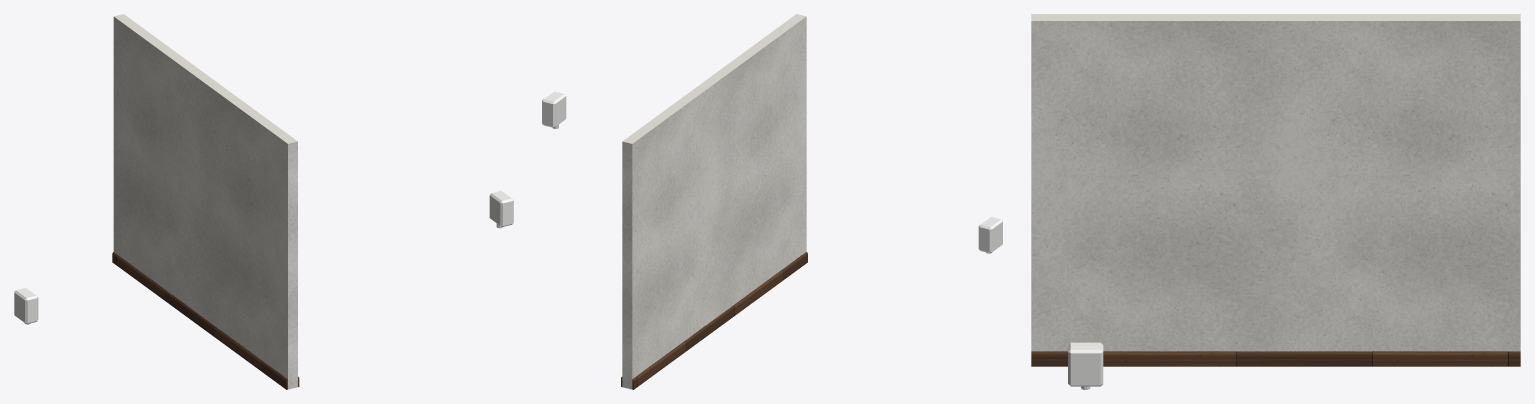
The model's file is r_plan.glb.
The picture shows the model from 3 angles, left to right: view 1: azimuth 30°, elevation 25°; view 2: azimuth 150°, elevation 25°; view 3: azimuth 270°, elevation 25°; orthographic projection. The views are drawn at different scales.
Visible parts, largest first — view 1: r_plan_plaster, r_plan_dkwood, r_plan_paint_w; view 2: r_plan_plaster, r_plan_dkwood, r_plan_paint_w; view 3: r_plan_plaster, r_plan_dkwood, r_plan_paint_w.
Boxes of the visible parts, x1,y1,x2,y2 form: r_plan_plaster: (113,14,297,389); r_plan_dkwood: (112,252,299,389); r_plan_paint_w: (14,190,513,324); r_plan_plaster: (622,14,806,389); r_plan_dkwood: (621,252,807,389); r_plan_paint_w: (542,91,1002,253); r_plan_plaster: (1031,14,1520,351); r_plan_dkwood: (1031,351,1520,366); r_plan_paint_w: (1068,342,1103,386).
Size of the model in its own units: 5.6 by 2.8 by 3.6.
Materials: 4 (2 with a texture image).
